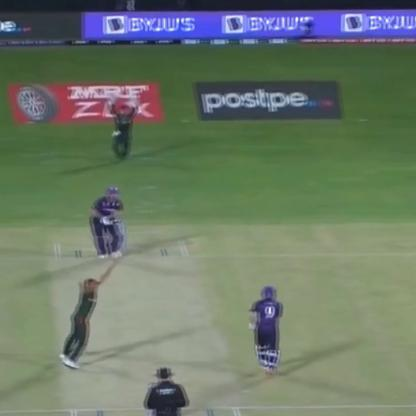pitch: (41, 240, 253, 416)
